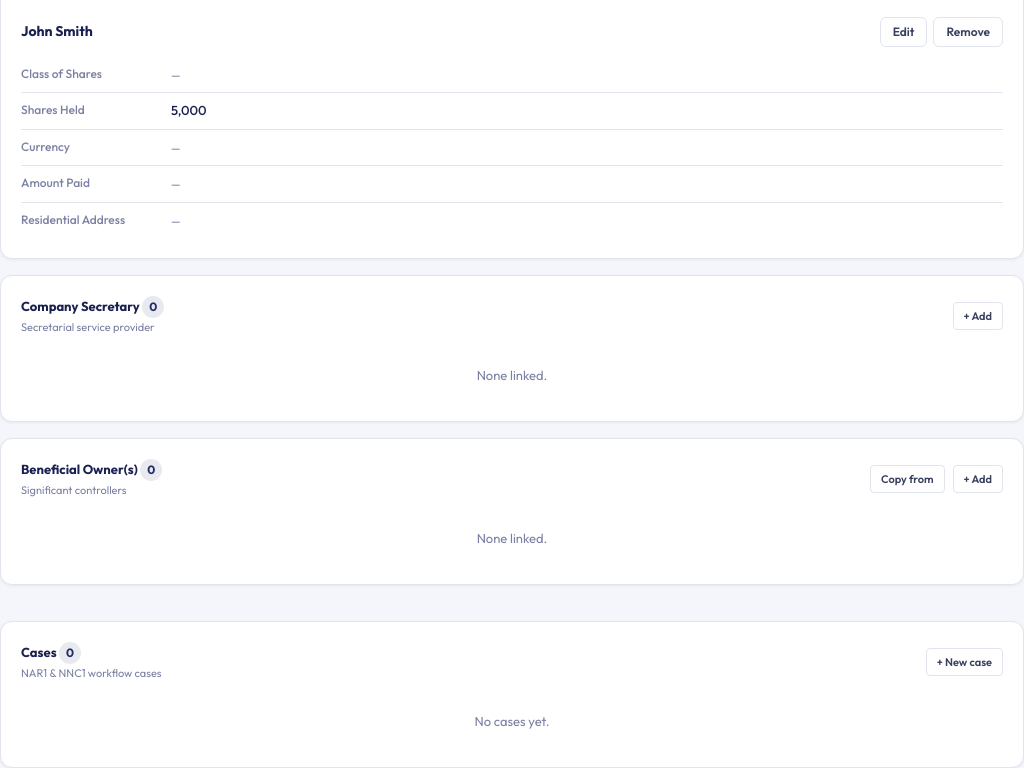
Test case: CompanyProfilePage — the CR form fields › opens the copy dialog on the shareholders of THIS company
(page scrolled)
Click the button "Copy from": (907, 479) [870, 465, 944, 493]
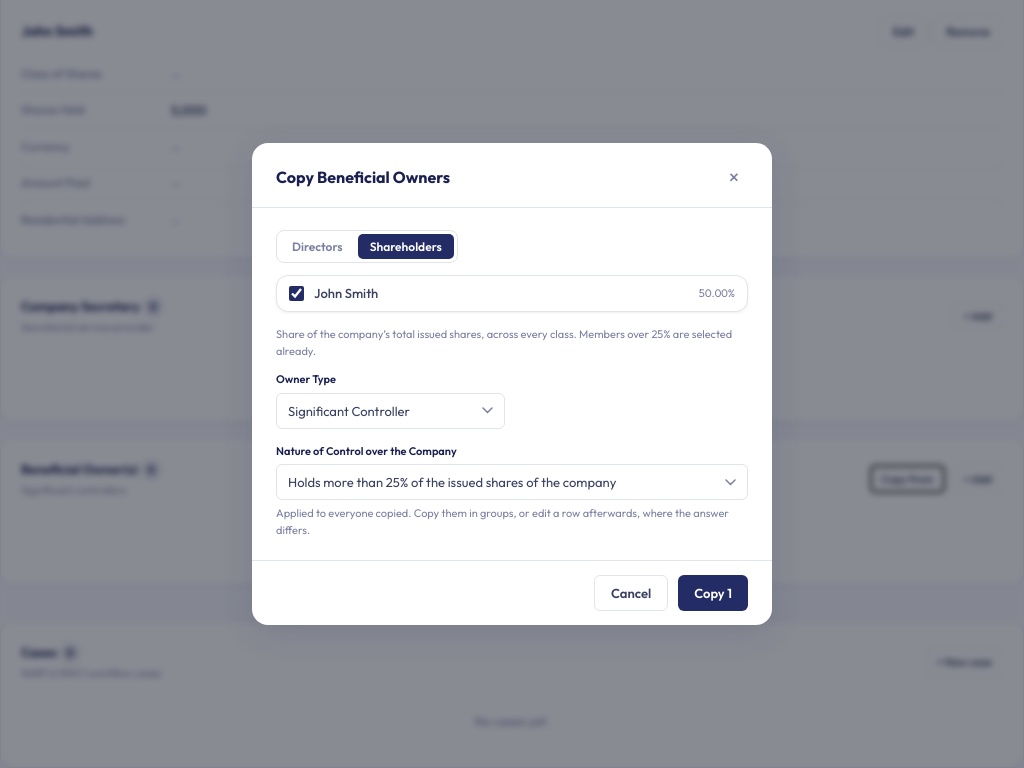
Expected: the text "50.00%" is shown, [699, 285, 735, 302]
Expected: the checkbox labelled "John Smith 50.00%" is checked, [289, 286, 304, 301]
